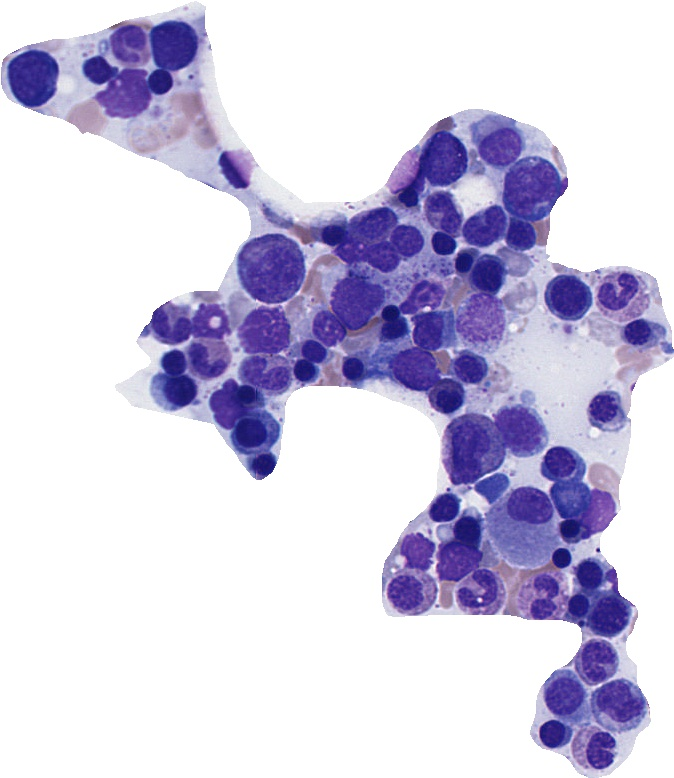objectness: (537, 436, 587, 486), (595, 680, 645, 730), (460, 205, 510, 255), (501, 493, 551, 543), (104, 20, 154, 70), (460, 571, 510, 621), (523, 573, 573, 623), (598, 271, 648, 321), (148, 302, 198, 352), (384, 566, 434, 616), (421, 185, 471, 235), (183, 334, 233, 384), (570, 636, 620, 686), (238, 352, 288, 402), (568, 725, 618, 775), (148, 19, 198, 69), (417, 136, 467, 186), (7, 51, 57, 101), (507, 160, 557, 210), (357, 232, 407, 282), (575, 487, 625, 537), (367, 289, 417, 339), (186, 298, 236, 348), (329, 227, 379, 277), (381, 215, 431, 265), (421, 483, 471, 533), (417, 218, 467, 268), (146, 335, 196, 385), (213, 141, 263, 191), (389, 343, 439, 393), (471, 120, 521, 170), (302, 303, 352, 353), (398, 272, 448, 322), (457, 296, 507, 346), (348, 197, 398, 247), (329, 273, 379, 323), (538, 671, 588, 721), (423, 373, 473, 423), (75, 46, 125, 96), (135, 57, 185, 107), (237, 309, 287, 359), (102, 68, 152, 118), (202, 380, 252, 430), (369, 307, 419, 357), (433, 537, 483, 587), (405, 309, 455, 359), (495, 407, 545, 457), (392, 523, 442, 573), (383, 172, 433, 222), (446, 345, 496, 395), (581, 385, 631, 435), (304, 204, 354, 254), (616, 307, 666, 357), (582, 591, 632, 641), (226, 409, 276, 459), (528, 710, 578, 760), (547, 507, 597, 557), (439, 237, 489, 287), (289, 325, 339, 375), (443, 504, 493, 554), (495, 211, 545, 261), (543, 271, 593, 321), (553, 582, 603, 632), (463, 250, 513, 300), (155, 367, 205, 417), (330, 344, 380, 394), (280, 348, 330, 398), (565, 551, 615, 601), (247, 244, 297, 294), (446, 422, 496, 472)
